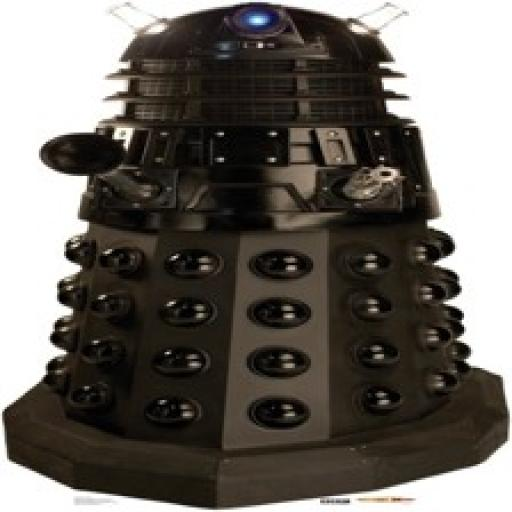dalek: (4, 0, 510, 505)
